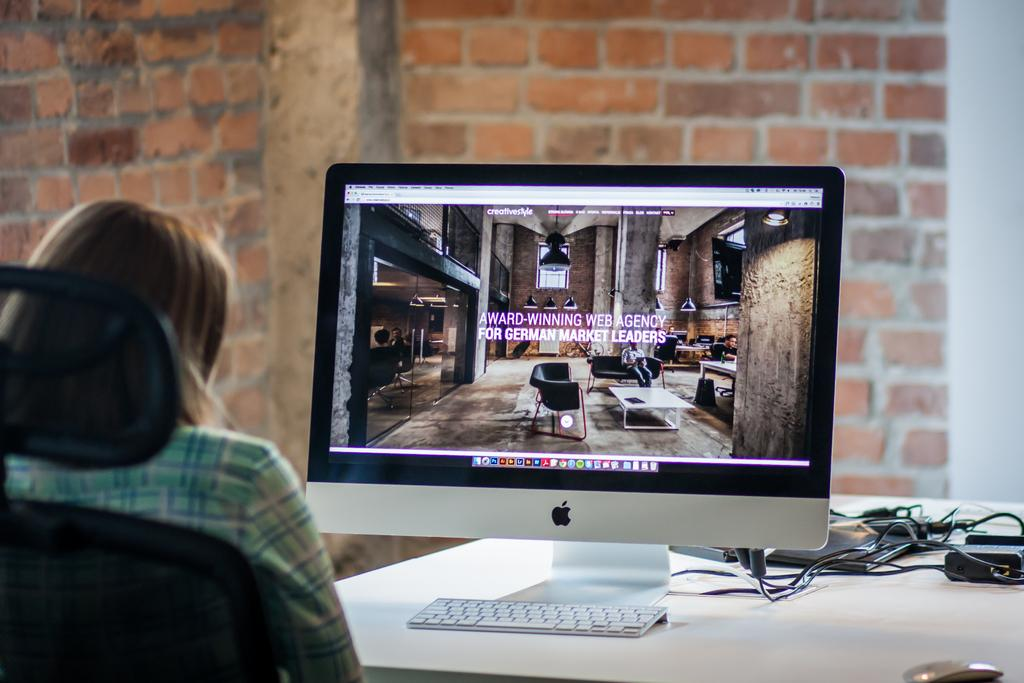Computer-monitor: (282, 152, 865, 621)
